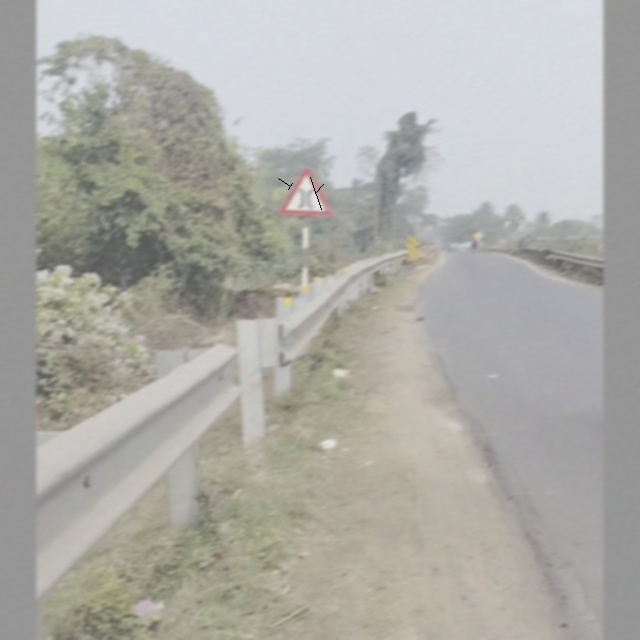Narrow_Bridge: (282, 167, 332, 217)
